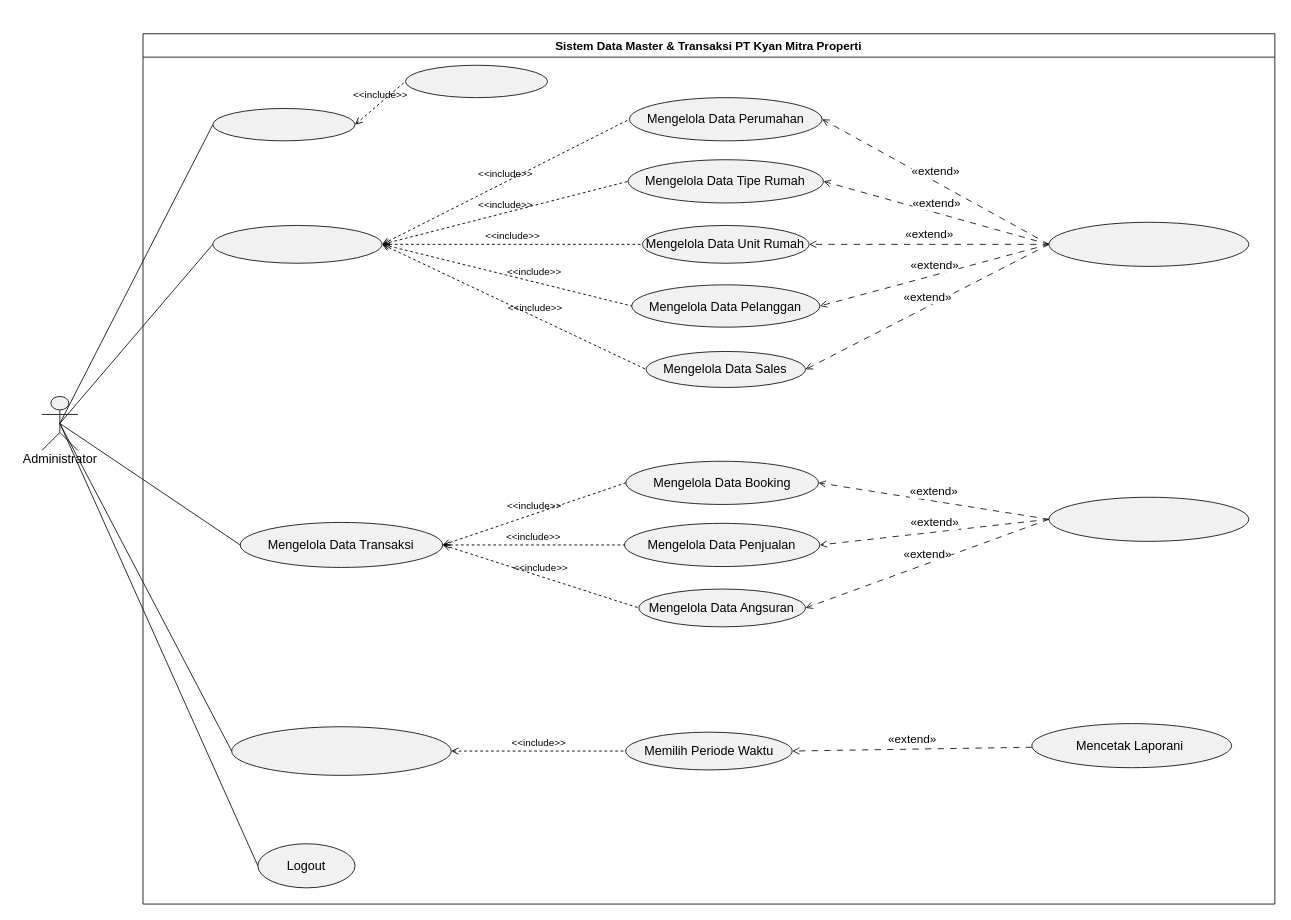
This 1291x920 diagram has some shape labels left out. Each missing label, with the centre of its shape:
"Login" goes at (283,124).
"Melihat Dasbor" goes at (476,81).
"Mencetak Datai" goes at (1148,243).
"Mencetak Kwitansi" goes at (1148,518).
"Mengelola Data Master" goes at (297,244).
"Mengelola Laporan Penjualan" goes at (341,750).
